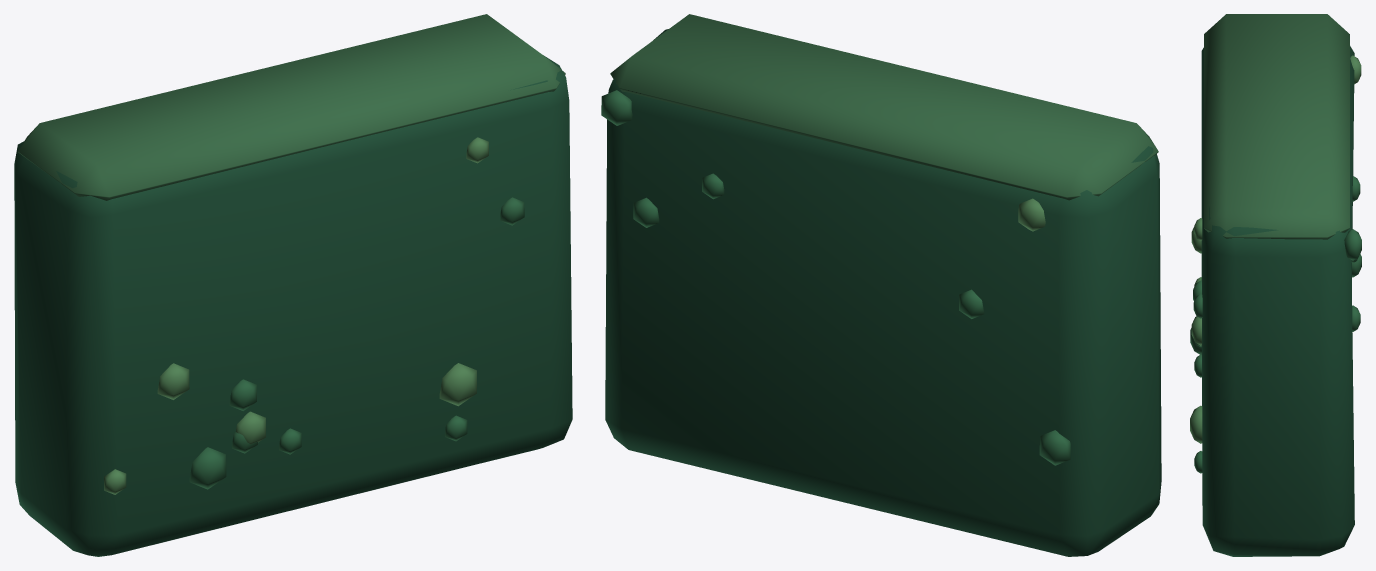
File: yew_hedge.glb
The picture shows the model from 3 angles, left to right: view 1: azimuth 30°, elevation 25°; view 2: azimuth 150°, elevation 25°; view 3: azimuth 270°, elevation 25°; orthographic projection. The views are drawn at different scales.
Visible parts, largest first — view 1: yew_hedge; view 2: yew_hedge; view 3: yew_hedge.
Boxes of the visible parts, x1=… form: yew_hedge: x1=14, y1=14, x2=572, y2=556; yew_hedge: x1=601, y1=14, x2=1161, y2=556; yew_hedge: x1=1190, y1=14, x2=1361, y2=556.
Size of what is drawn, in the model's own units: 4.1 by 3.07 by 1.36.
